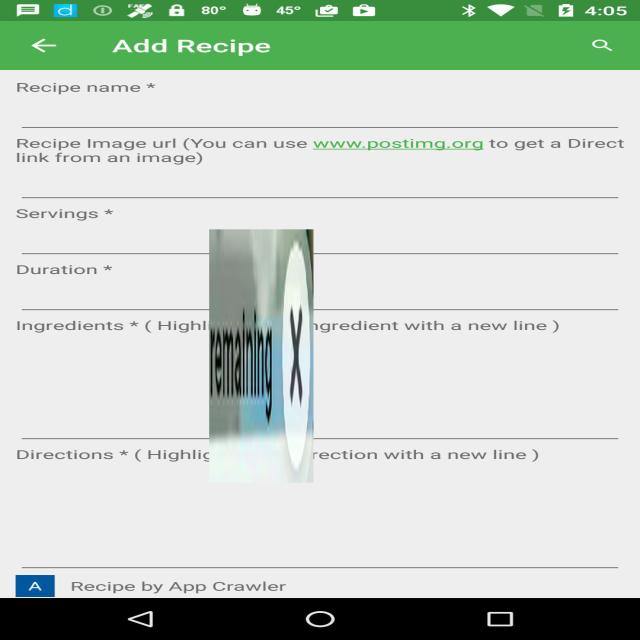misdirection: (209, 229, 314, 483)
